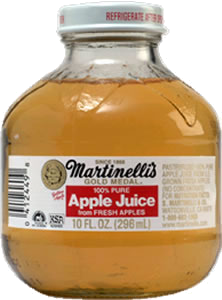grozi_53: (0, 0, 222, 300)
